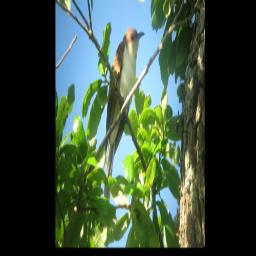Cuckoo: (102, 26, 146, 209)
